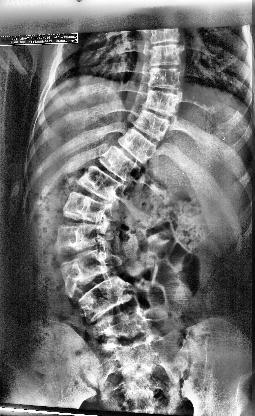Vertebrae: (90, 306, 154, 348), (55, 250, 117, 292), (74, 279, 138, 319), (52, 221, 108, 256), (110, 346, 162, 380), (114, 128, 162, 164), (96, 144, 144, 180), (78, 167, 126, 202), (60, 192, 108, 224), (132, 111, 172, 141), (145, 88, 181, 116), (148, 66, 184, 90), (149, 44, 185, 66), (150, 29, 180, 45)
